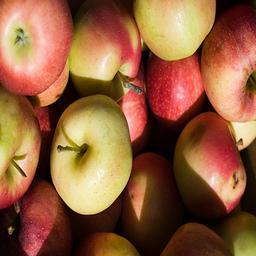apple: (49, 94, 135, 215), (171, 117, 244, 224), (67, 2, 142, 99), (1, 1, 73, 95), (200, 5, 255, 126), (125, 150, 188, 251), (1, 84, 41, 211), (132, 1, 215, 61), (15, 178, 74, 255), (146, 58, 207, 132)
